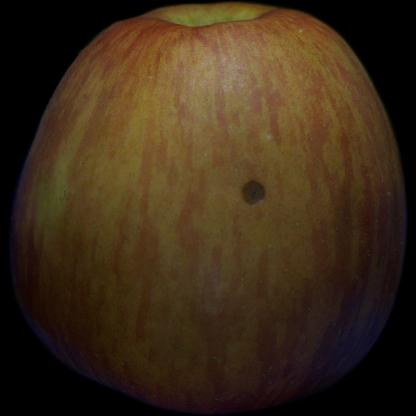defect: (221, 154, 301, 235)
